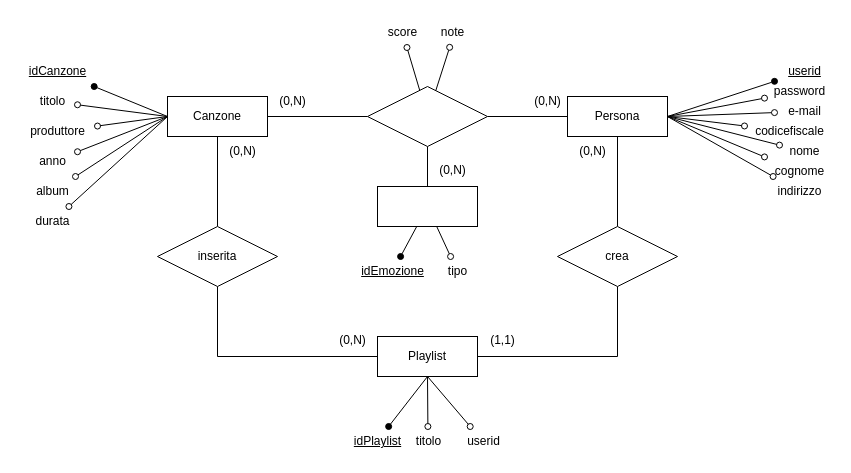
Image size: 851x473. Some labels were removed from this diagram. Here are the shapes that lost their labels. From the top down, the centre of each, then its label:
pixel 427 116: percepisce
pixel 427 206: Emozione
